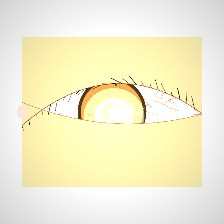corneal_ulcer: (82, 91, 146, 142)
